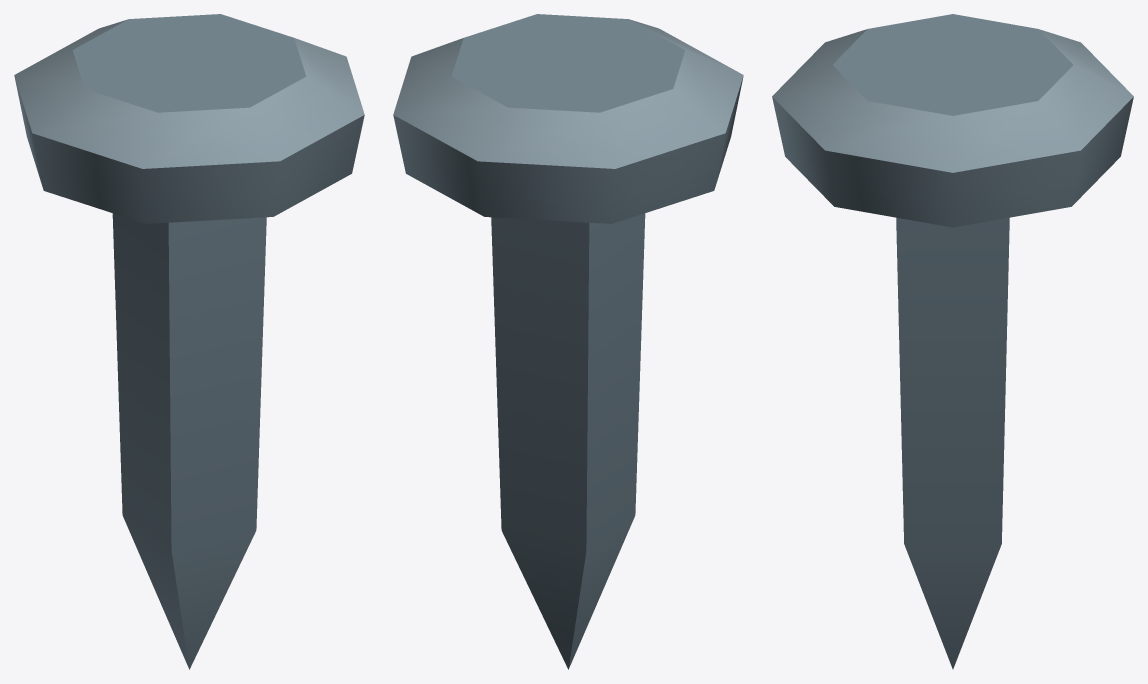
File: nail.glb
The picture shows the model from 3 angles, left to right: view 1: azimuth 30°, elevation 25°; view 2: azimuth 150°, elevation 25°; view 3: azimuth 270°, elevation 25°; orthographic projection.
Visible parts, largest first — view 1: nail; view 2: nail; view 3: nail.
Boxes of the visible parts, x1,y1,x2,y2 form: nail: (14,14,364,669); nail: (393,14,743,669); nail: (772,14,1133,669).
Bounding box in the file's own units: 0.6445 × 1.19 × 0.6445.
Materials: 1 (1 with a texture image).
